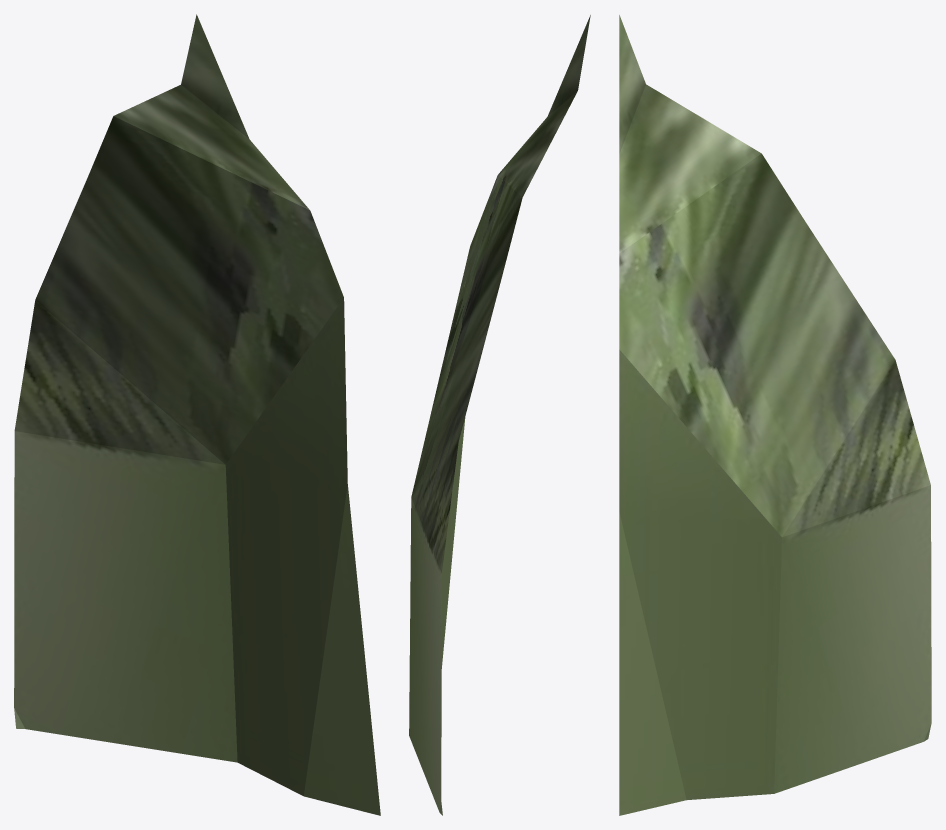
3 views of the same model, side by side, from view 1: azimuth 30°, elevation 25°; view 2: azimuth 150°, elevation 25°; view 3: azimuth 270°, elevation 25° (orthographic). The views are drawn at different scales.
Size of the model in its own units: 0.6188 by 2.72 by 1.06.
Materials: 1 (1 with a texture image).
